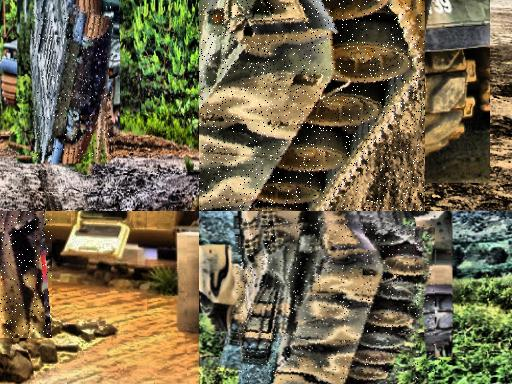tanks: (200, 1, 426, 212), (238, 219, 435, 384), (34, 8, 114, 165), (25, 1, 32, 22)
